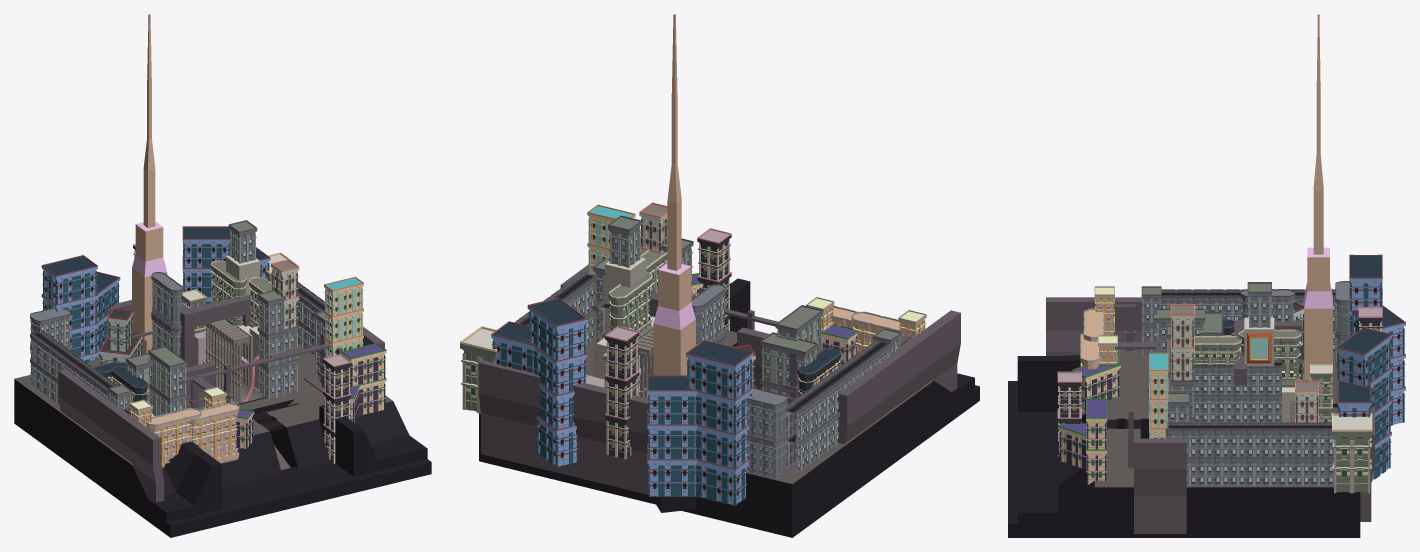
File: ENV2.fbx
3 views of the same model, side by side, from view 1: azimuth 30°, elevation 25°; view 2: azimuth 150°, elevation 25°; view 3: azimuth 270°, elevation 25° (orthographic). The views are drawn at different scales.
Parts seen in each view (by area): view 1: Cube, Cube.056, Cube.055, Cube.079, Cube.048, Cube.050, Cube.085, Cube.054, Cube.069, Cube.009, Cube.068, Cube.077 (+29 smaller); view 2: Cube, Cube.040, Cube.056, Cube.055, Cube.050, Cube.048, Cube.085, Cube.075, Cube.017, Cube.045, Cube.071, Cube.039 (+25 smaller); view 3: Cube, Cube.062, Cube.010, Cube.056, Cube.038, Cube.055, Cube.039, Cube.086, Cube.085, Cube.087, Cube.050, Cube.048 (+33 smaller).
Boxes of the visible parts, <box> form: Cube: <box>14,255,431,537</box>; Cube.056: <box>132,14,330,409</box>; Cube.055: <box>58,369,164,502</box>; Cube.079: <box>188,403,239,463</box>; Cube.048: <box>41,255,97,304</box>; Cube.050: <box>30,331,117,400</box>; Cube.085: <box>182,226,230,267</box>; Cube.054: <box>146,407,201,467</box>; Cube.069: <box>148,346,187,397</box>; Cube.009: <box>205,326,241,403</box>; Cube.068: <box>151,272,183,330</box>; Cube.077: <box>341,343,386,386</box>; Cube: <box>479,257,979,537</box>; Cube.040: <box>478,360,656,496</box>; Cube.056: <box>653,14,778,389</box>; Cube.055: <box>838,310,960,444</box>; Cube.050: <box>786,340,892,443</box>; Cube.048: <box>686,340,753,399</box>; Cube.085: <box>527,297,587,360</box>; Cube.075: <box>647,375,697,424</box>; Cube.017: <box>608,272,652,341</box>; Cube.045: <box>694,458,749,506</box>; Cube.071: <box>760,332,817,388</box>; Cube.039: <box>460,326,497,413</box>; Cube: <box>1008,317,1360,537</box>; Cube.062: <box>1165,422,1334,457</box>; Cube.010: <box>1128,409,1186,533</box>; Cube.056: <box>1115,14,1332,391</box>; Cube.038: <box>1186,457,1333,486</box>; Cube.055: <box>1046,297,1142,355</box>; Cube.039: <box>1332,413,1372,493</box>; Cube.086: <box>1193,394,1281,422</box>; Cube.085: <box>1336,327,1391,386</box>; Cube.087: <box>1193,359,1281,394</box>; Cube.050: <box>1160,289,1335,324</box>; Cube.048: <box>1349,254,1382,309</box>.
Size of the model in its own units: 59209 by 84233 by 66395.
